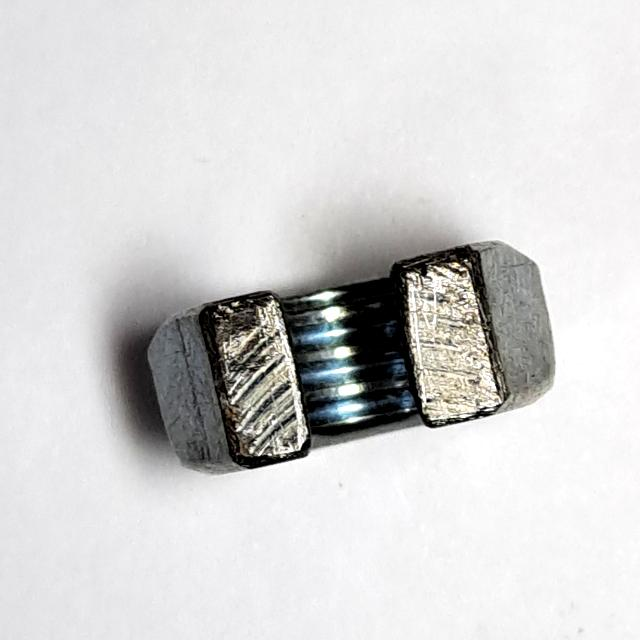Side-Fracture: (136, 231, 572, 499)
